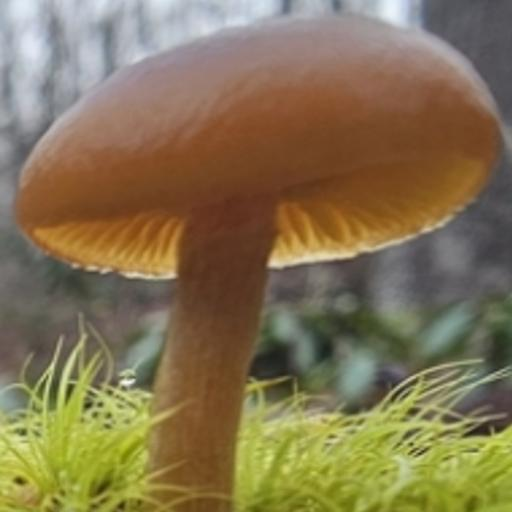mushroom: (20, 3, 505, 394)
